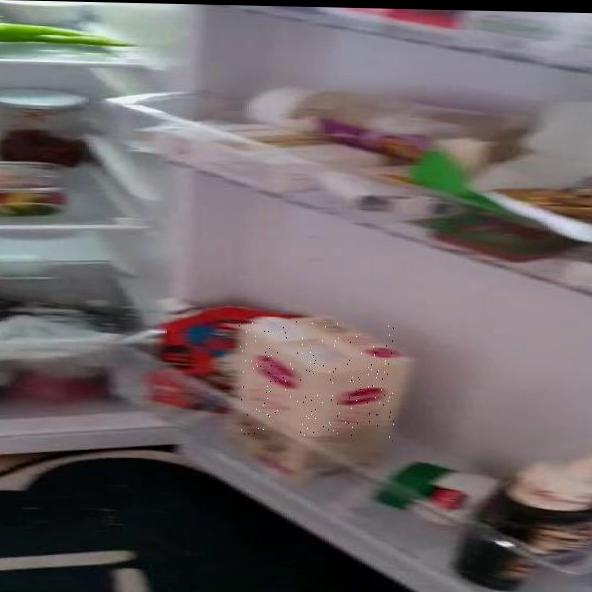milk: (239, 319, 395, 438)
